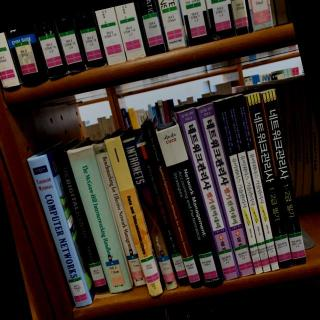book-spine: (155, 124, 225, 289), (177, 107, 240, 281), (65, 143, 133, 297), (196, 103, 255, 277), (27, 154, 93, 309), (141, 122, 202, 288), (104, 135, 163, 298), (214, 99, 263, 274), (122, 139, 178, 291), (224, 96, 271, 272), (261, 89, 307, 265), (53, 149, 108, 294), (234, 94, 279, 271), (247, 92, 292, 268), (93, 142, 147, 288), (136, 145, 190, 287)
